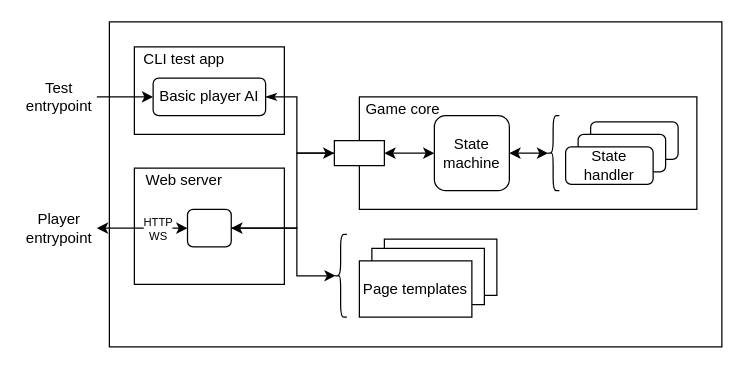
This 744x369 diagram has some shape labels left out. The centre of each missing label's shape, as x and y in pixels:
"API" goes at [208,227].
"hooks" goes at [358,152].
